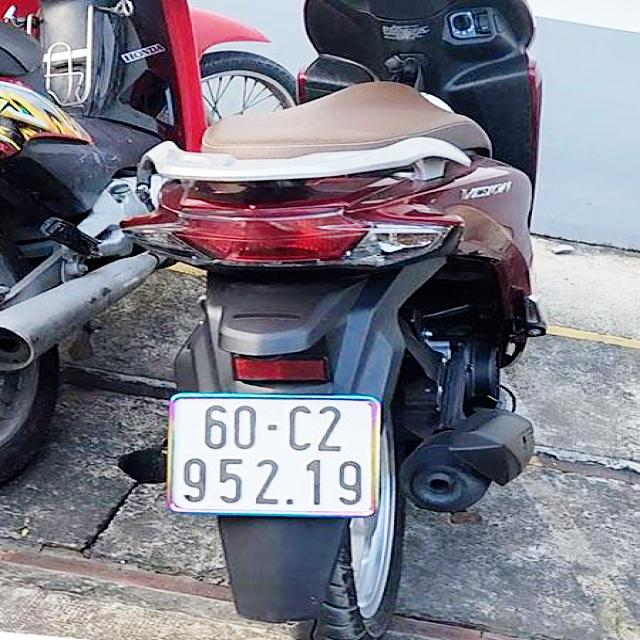license_plate: (170, 395, 378, 517)
